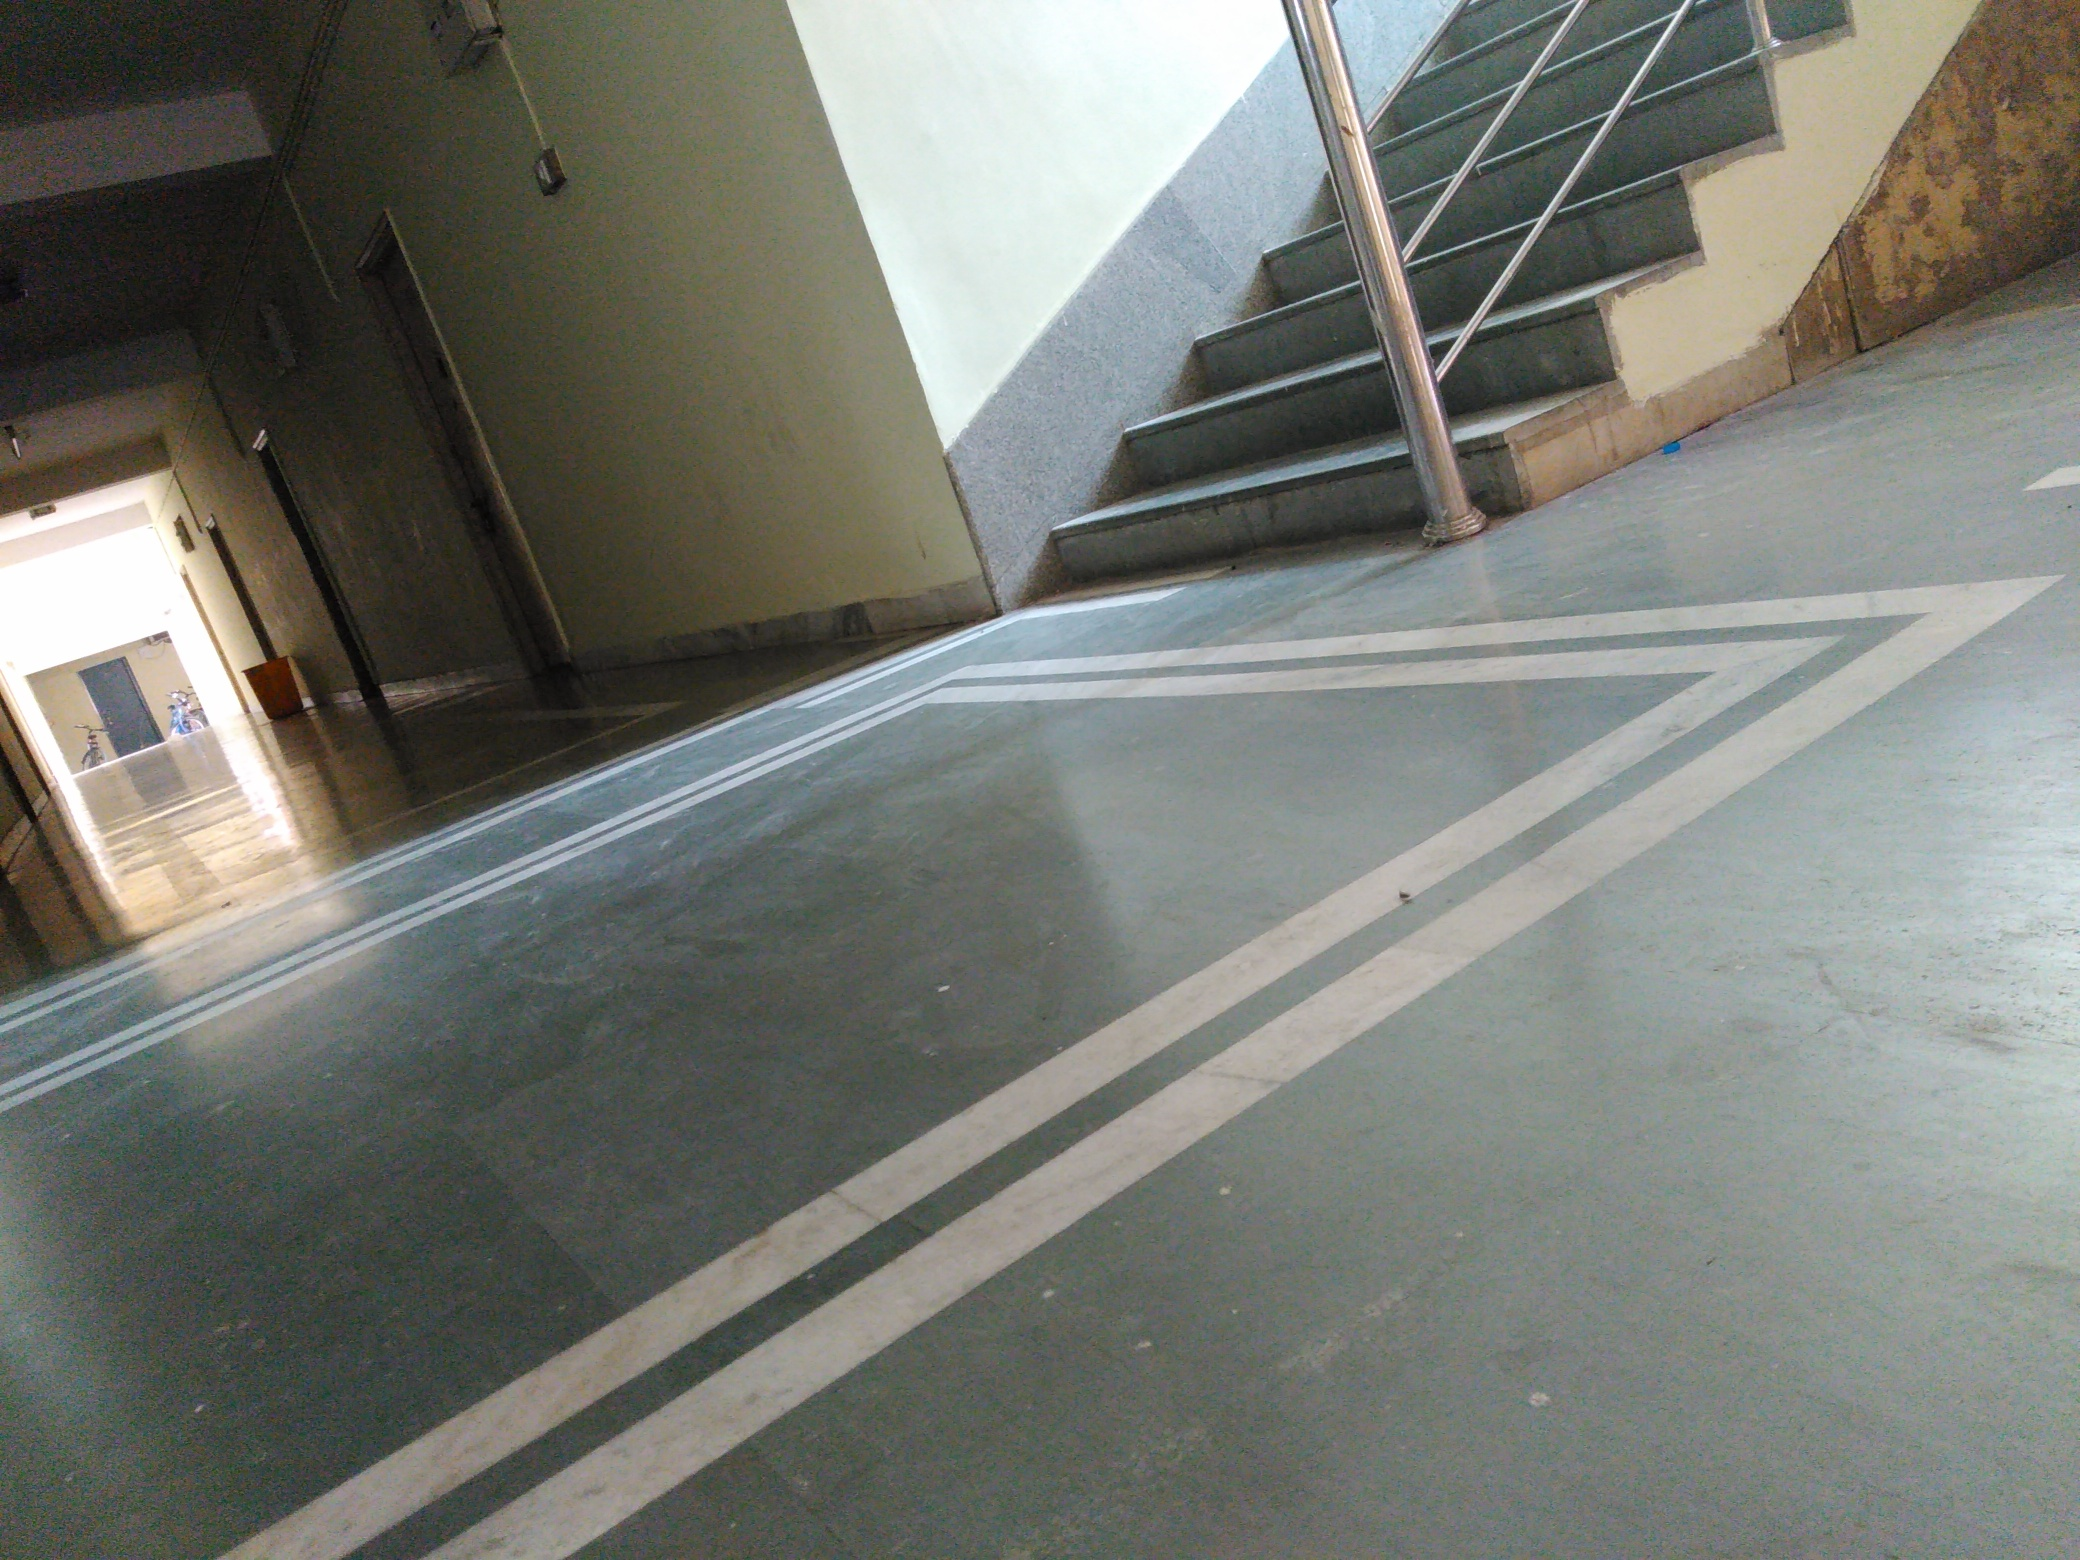stairs_up: (984, 2, 1788, 585)
